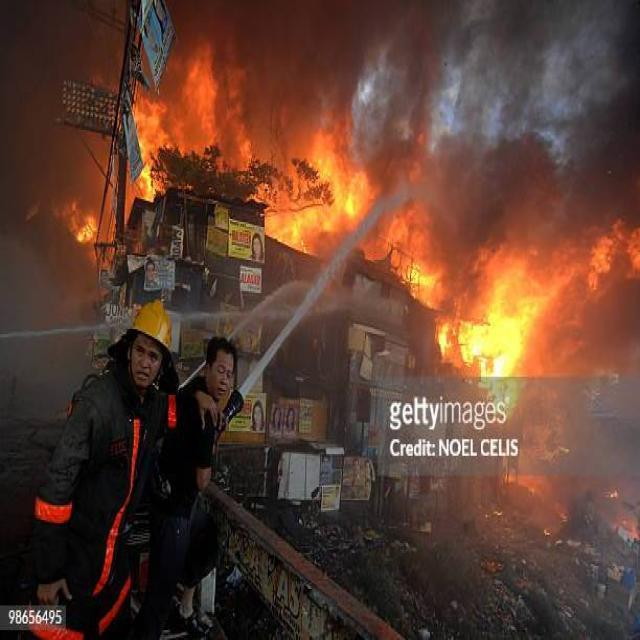Fire: (436, 255, 546, 387), (260, 131, 363, 252), (115, 73, 178, 199), (70, 208, 102, 252)
Smoke: (369, 2, 640, 230)
